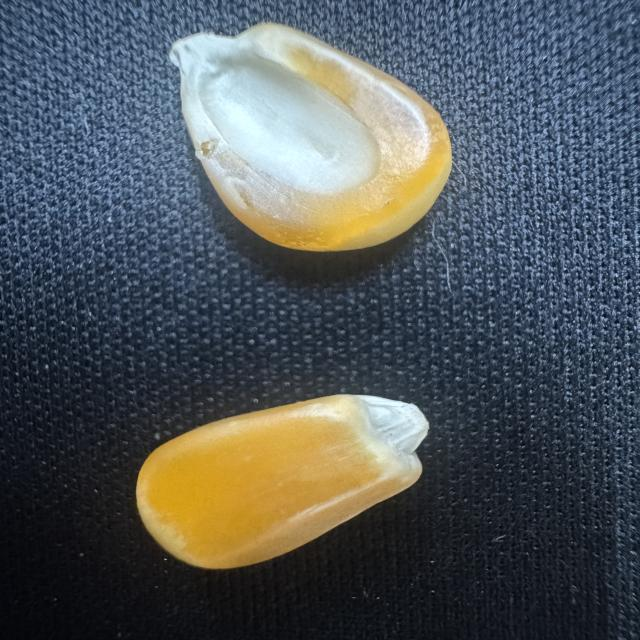Good-Seed: (165, 18, 458, 255), (132, 390, 432, 573)
